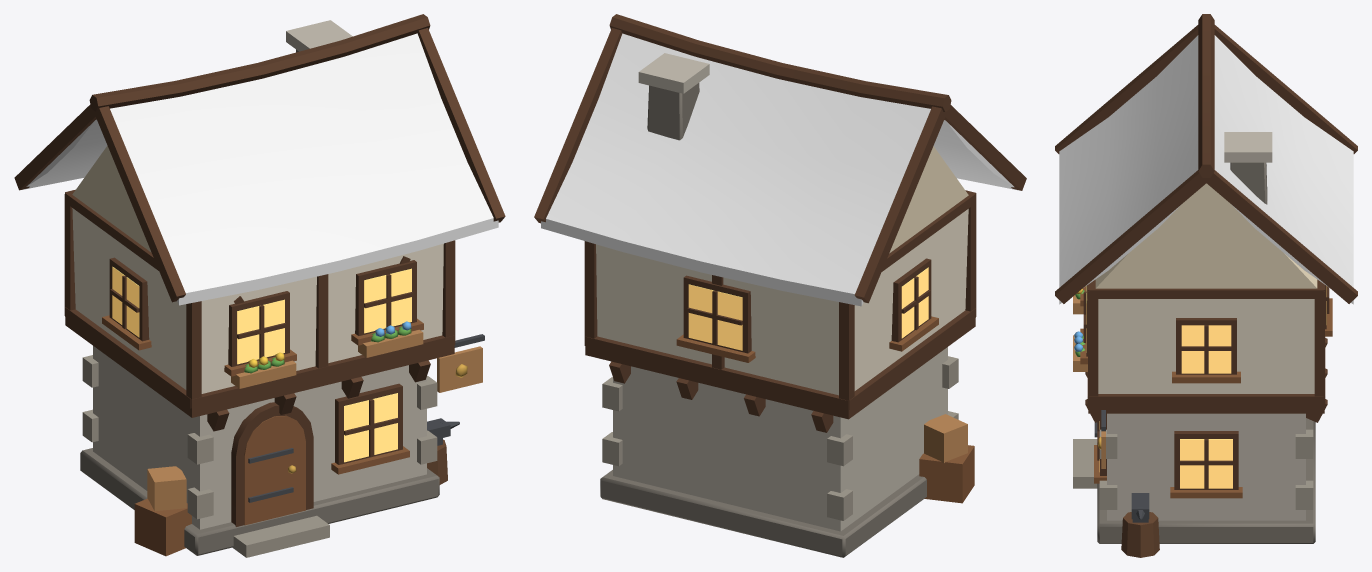
File: district-tier3.glb
The picture shows the model from 3 angles, left to right: view 1: azimuth 30°, elevation 25°; view 2: azimuth 150°, elevation 25°; view 3: azimuth 270°, elevation 25°; orthographic projection. The views are drawn at different scales.
Visible parts, largest first — view 1: TownRoof_Shell, Part_TimberDark, Part_StoneLight, Floor2, Part_WoodWarm, Part_WindowGlow, Part_StoneDark, Part_StoneMid, Part_WoodLight, TownRoof_Gable, Part_Iron; view 2: TownRoof_Shell, Part_StoneLight, Part_TimberDark, Floor2, Part_StoneDark, Part_WindowGlow, Part_WoodWarm, Part_StoneMid, TownRoof_Gable, Part_WoodLight; view 3: TownRoof_Shell, Part_TimberDark, Part_StoneLight, Floor2, TownRoof_Gable, Part_StoneDark, Part_WindowGlow, Part_StoneMid, Part_WoodWarm, AnvilStump, Part_Iron, Part_WoodLight.
Part boxes in pixels (box(x1,y1,x2,y2)): TownRoof_Shell: box(22, 33, 498, 305); Part_TimberDark: box(14, 14, 505, 526); Part_StoneLight: box(93, 20, 426, 529); Floor2: box(72, 208, 443, 393); Part_WoodWarm: box(102, 315, 423, 556); Part_WindowGlow: box(112, 266, 411, 462); Part_StoneDark: box(80, 49, 439, 555); Part_StoneMid: box(82, 355, 437, 557); Part_WoodLight: box(147, 329, 482, 511); TownRoof_Gable: box(72, 145, 151, 252); Part_Iron: box(248, 334, 484, 502); TownRoof_Shell: box(541, 33, 1019, 306); Part_StoneLight: box(613, 53, 947, 531); Part_TimberDark: box(534, 14, 1026, 432); Floor2: box(596, 209, 968, 395); Part_StoneDark: box(600, 83, 926, 557); Part_WindowGlow: box(688, 267, 928, 350); Part_WoodWarm: box(676, 316, 974, 503); Part_StoneMid: box(602, 356, 958, 520); TownRoof_Gable: box(889, 146, 968, 253); Part_WoodLight: box(924, 414, 967, 463); TownRoof_Shell: box(1059, 35, 1353, 304); Part_TimberDark: box(1055, 14, 1357, 489); Part_StoneLight: box(1107, 132, 1305, 520); Floor2: box(1098, 299, 1314, 393); TownRoof_Gable: box(1095, 183, 1317, 288); Part_StoneDark: box(1097, 162, 1315, 543); Part_WindowGlow: box(1086, 286, 1326, 488); Part_StoneMid: box(1073, 429, 1313, 509); Part_WoodWarm: box(1080, 286, 1332, 498); AnvilStump: box(1121, 512, 1159, 557); Part_Iron: box(1094, 410, 1149, 522); Part_WoodLight: box(1073, 295, 1105, 468).
Bounding box in the file's own units: 4.49 × 5.49 × 3.77.
